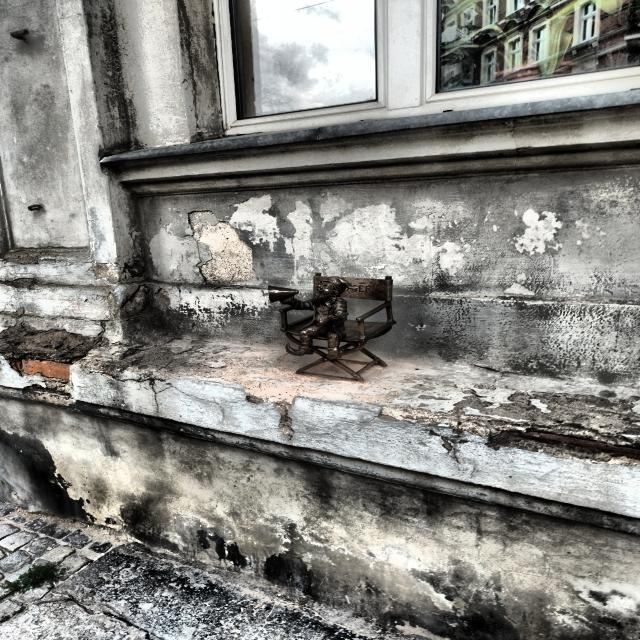Rezyser: (268, 274, 395, 381)
